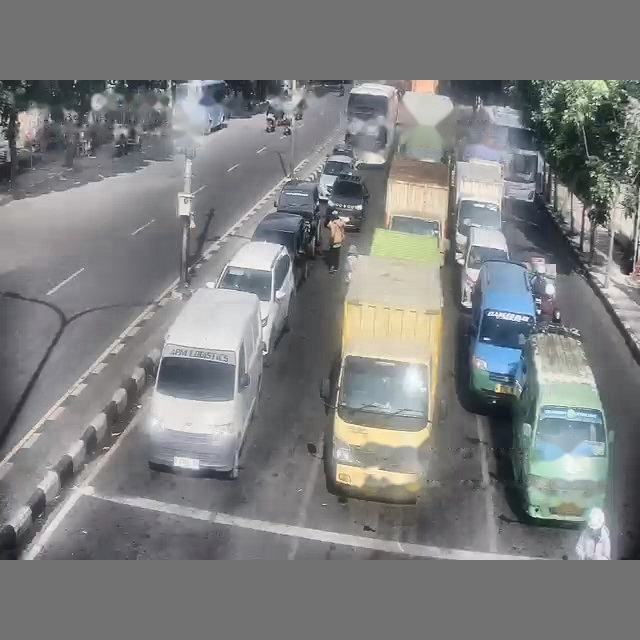Bis: (481, 106, 541, 202), (345, 83, 398, 165), (174, 80, 228, 134)
Mobil: (215, 242, 294, 357), (251, 212, 310, 289), (274, 179, 321, 258), (327, 172, 368, 230), (318, 155, 354, 200), (327, 143, 355, 160)
Truk: (321, 255, 445, 503), (384, 156, 449, 259), (454, 160, 504, 259)
